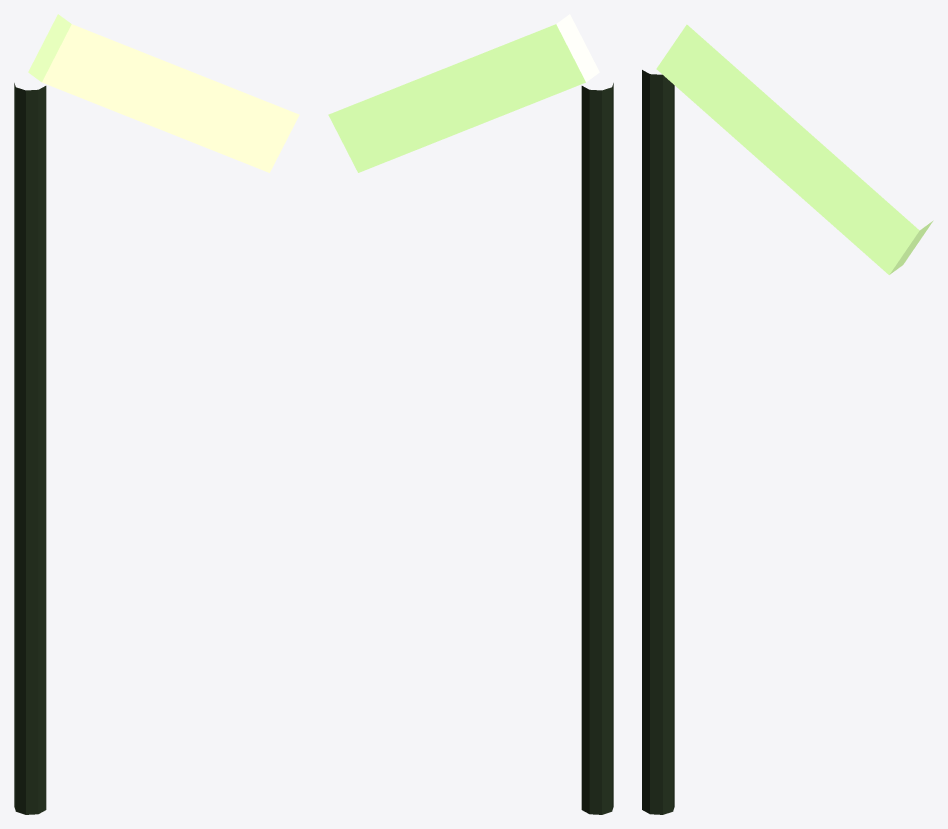
Rendered from necrophos.glb.
3 renders of one model, left to right at view 1: azimuth 30°, elevation 25°; view 2: azimuth 150°, elevation 25°; view 3: azimuth 330°, elevation 25°, orthographic. The views are drawn at different scales.
Visible parts, largest first — view 1: necrophos-shaft, necrophos-blade; view 2: necrophos-shaft, necrophos-blade; view 3: necrophos-shaft, necrophos-blade.
Boxes of the visible parts, box(x1,y1,x2,y2) form: necrophos-shaft: box(14, 83, 46, 814); necrophos-blade: box(28, 14, 299, 172); necrophos-shaft: box(581, 83, 613, 814); necrophos-blade: box(328, 14, 599, 172); necrophos-shaft: box(642, 70, 674, 814); necrophos-blade: box(656, 24, 933, 274).
Size of the model in its own units: 0.5801 by 1.56 by 0.06.
